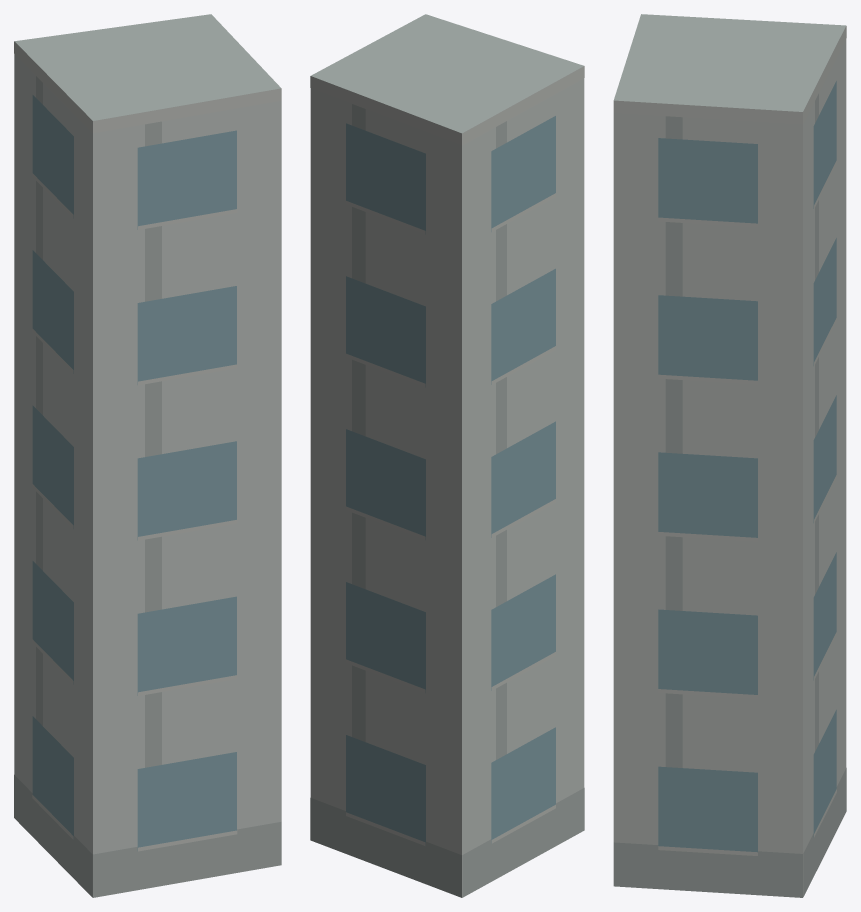
The model's file is survey-upis-32618414.glb.
3 renders of one model, left to right at view 1: azimuth 30°, elevation 25°; view 2: azimuth 150°, elevation 25°; view 3: azimuth 270°, elevation 25°, orthographic. The views are drawn at different scales.
Parts seen in each view (by area): view 1: survey-upis-32618414.tmp; view 2: survey-upis-32618414.tmp; view 3: survey-upis-32618414.tmp.
Part boxes in pixels (x1,y1,x2,y2): survey-upis-32618414.tmp: (14, 14, 281, 897); survey-upis-32618414.tmp: (310, 14, 584, 897); survey-upis-32618414.tmp: (613, 14, 846, 897).
Size of the model in its own units: 4.09 by 15.25 by 4.11.
